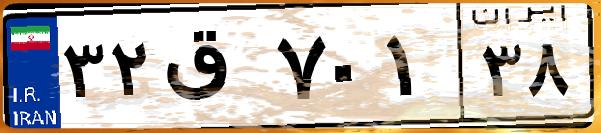0: (330, 28, 385, 110)
1: (385, 28, 445, 110)
2: (110, 28, 158, 98)
3: (57, 26, 110, 100), (475, 38, 525, 113)
7: (270, 28, 330, 110)
8: (525, 38, 570, 115)
ق: (158, 20, 270, 120)
